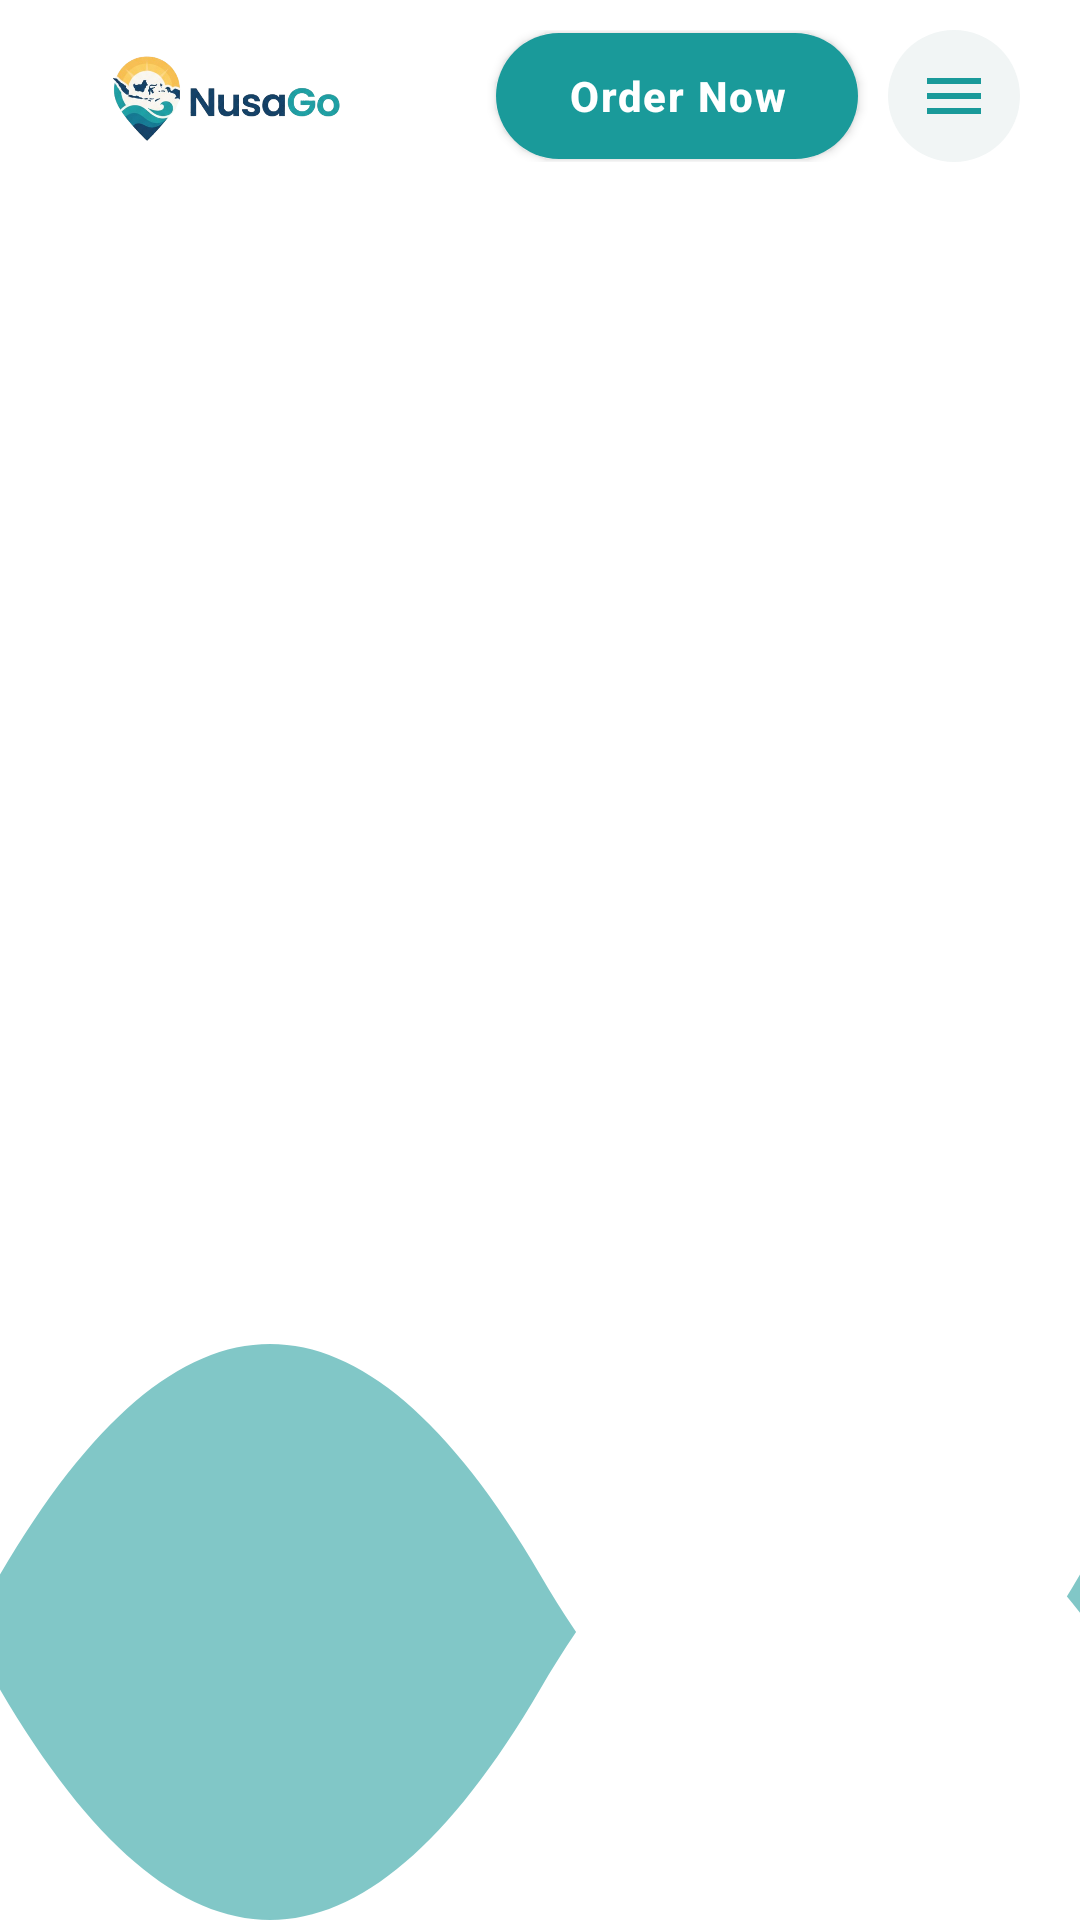

Named icons in this screenshot (1080w x 1920h) and their bounding boxes, (x1=x1, y1=y1, x2=x2, y2=y2):
Open menu: (x1=927, y1=78, x2=981, y2=114)
